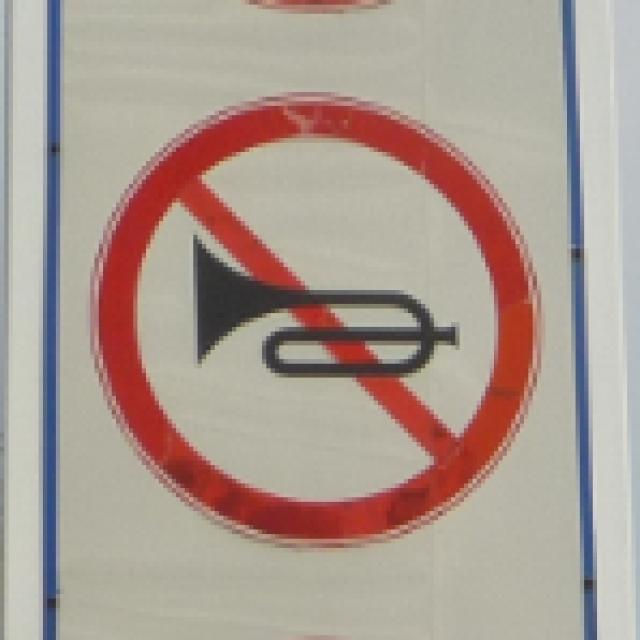No Horn: (78, 86, 551, 564)
